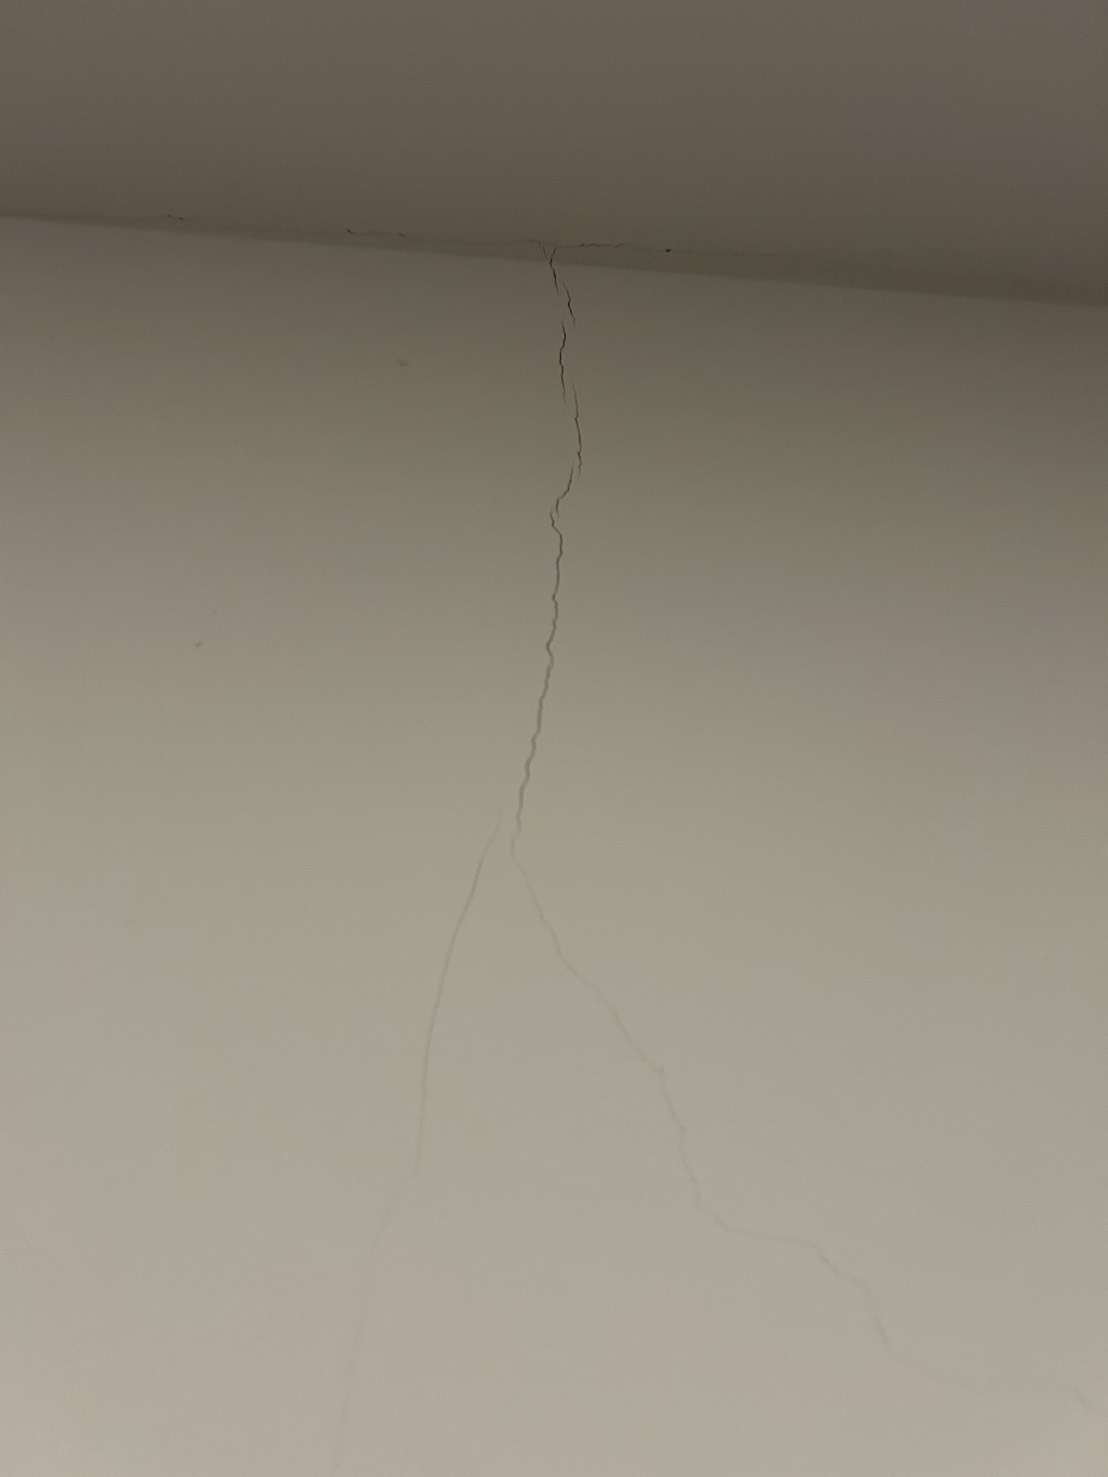Low: (347, 235, 1108, 1477)
